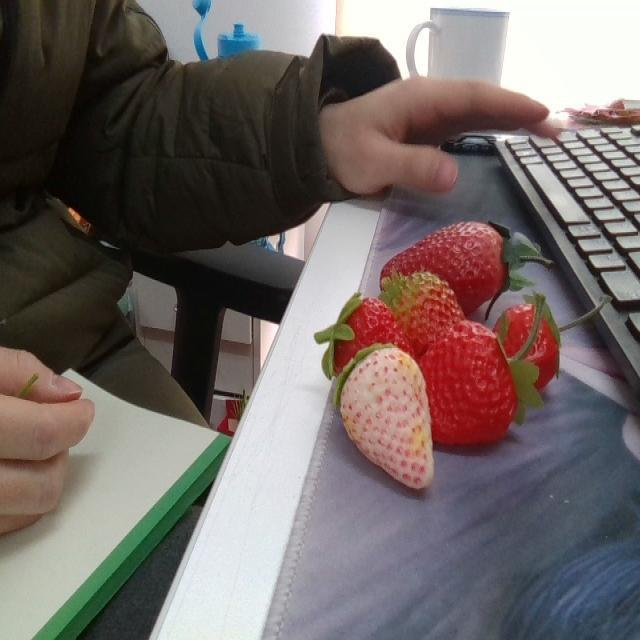ripe: (380, 217, 516, 307), (422, 324, 514, 448), (489, 296, 564, 394), (377, 270, 466, 350), (327, 290, 412, 358)
unripe: (340, 354, 432, 489)
